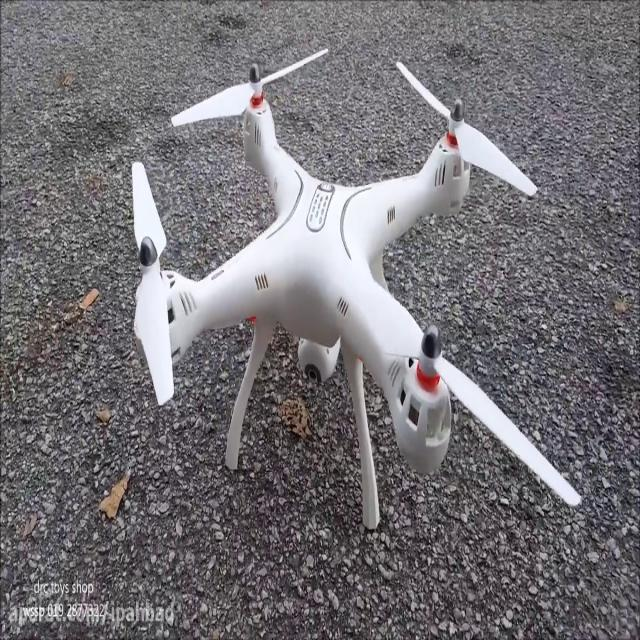drone: (123, 41, 590, 532)
